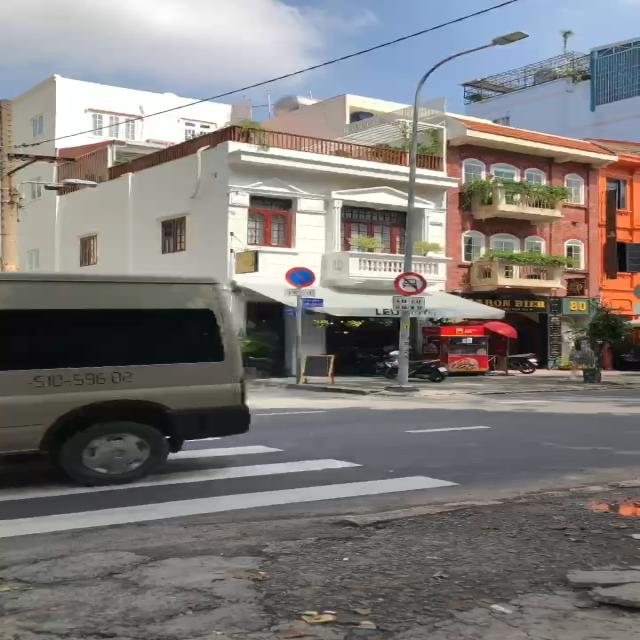Bien bao cam do xe: (283, 265, 319, 289)
Bien bao cam xe oto: (393, 271, 430, 297)
